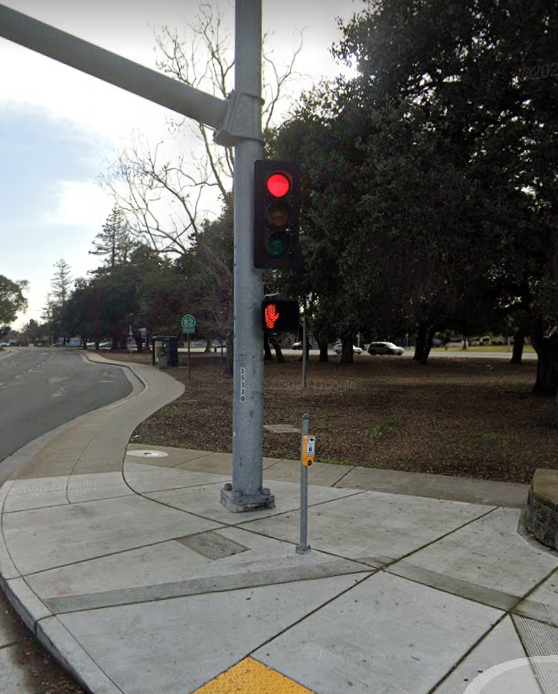red_light: (258, 163, 296, 265)
